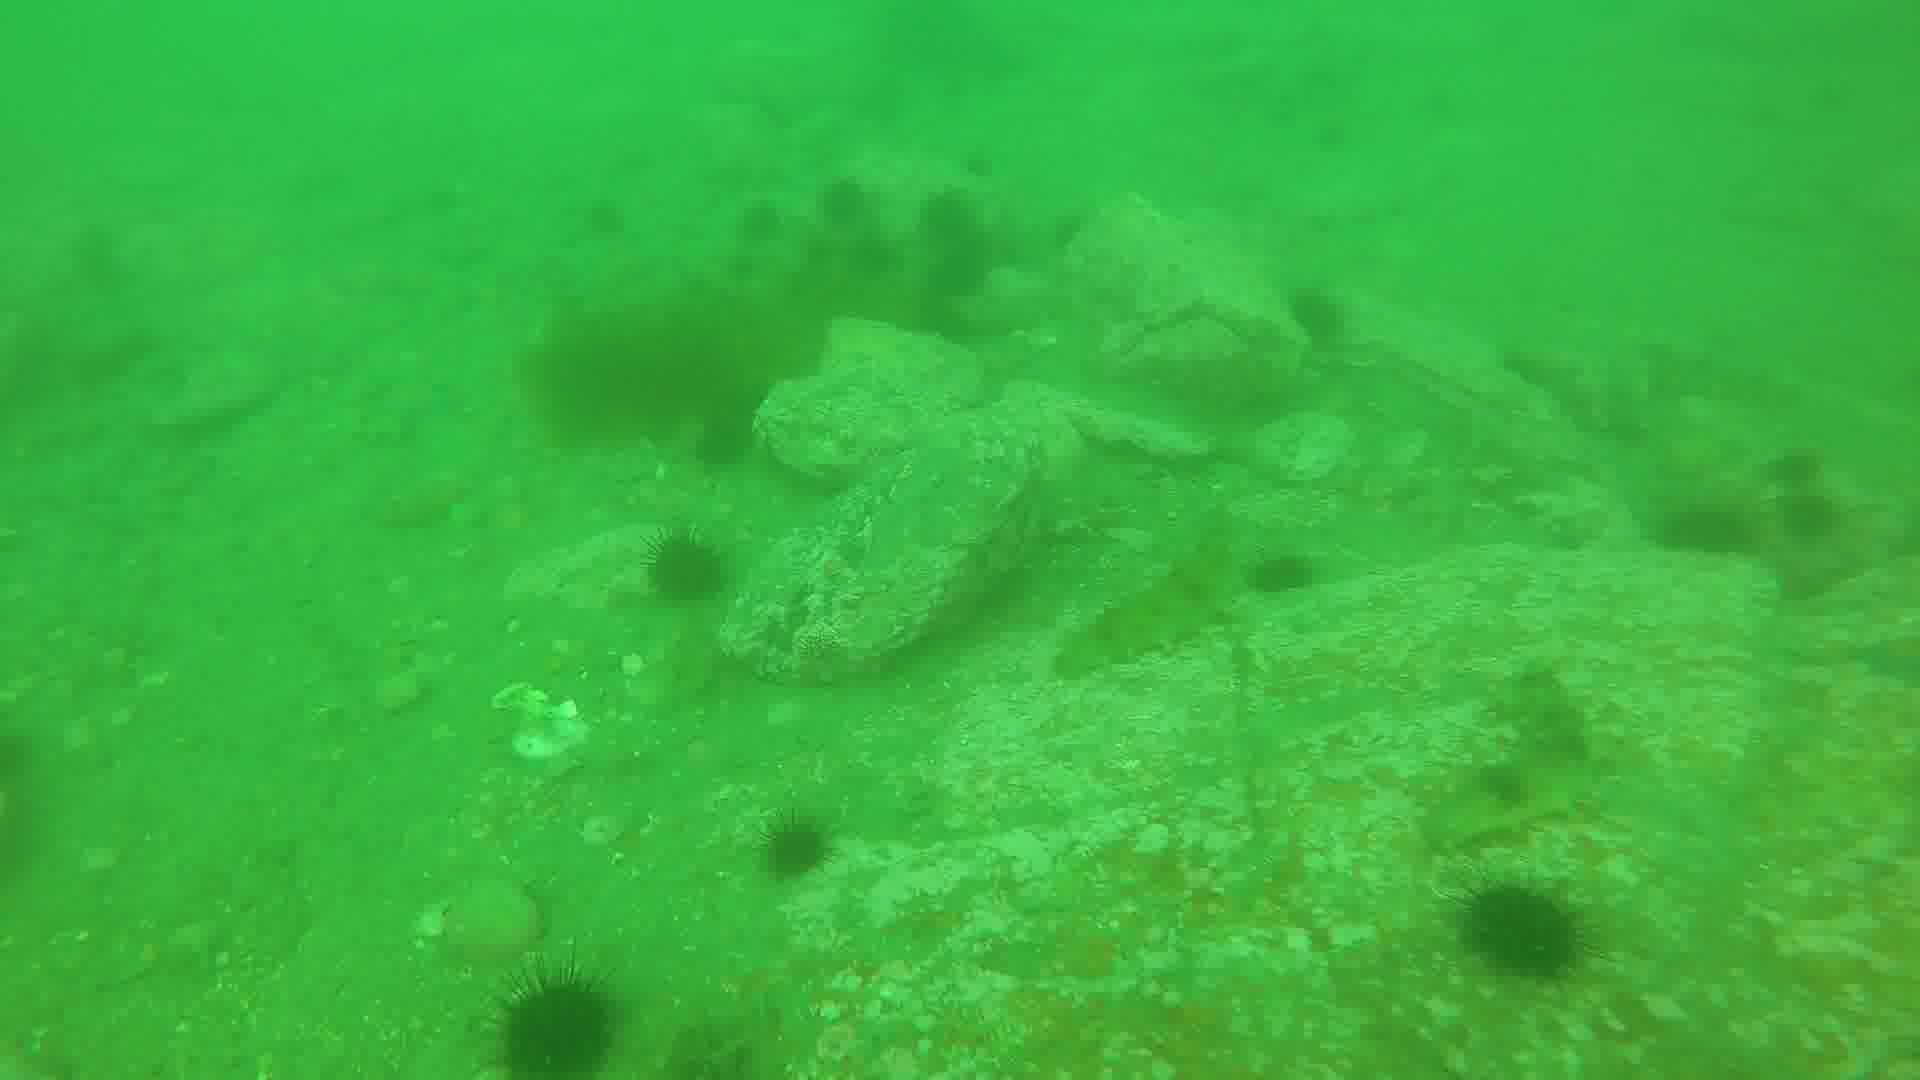echinus: (1462, 878, 1586, 986), (498, 973, 622, 1080), (647, 534, 735, 609), (1669, 505, 1762, 567), (753, 823, 833, 878), (942, 237, 1011, 301), (691, 409, 766, 465), (1255, 550, 1327, 604), (815, 174, 880, 233), (1784, 493, 1850, 542), (922, 193, 980, 247), (852, 235, 909, 280), (742, 204, 799, 247)
holothurian: (1424, 674, 1604, 852), (1062, 535, 1261, 676)
